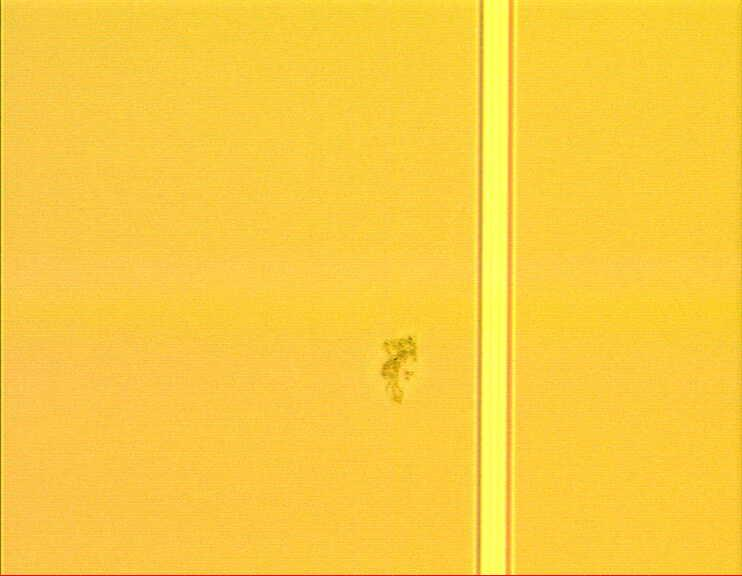PIQ PARTICLE: (377, 333, 423, 407)
